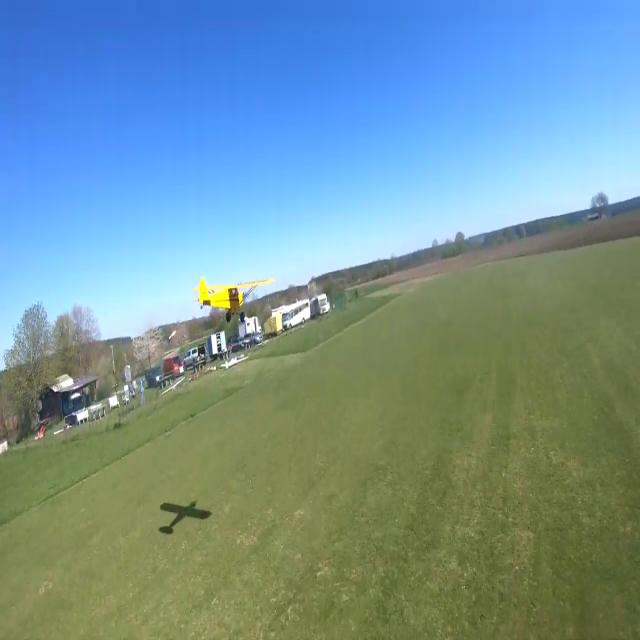iha: (225, 278, 243, 322)
